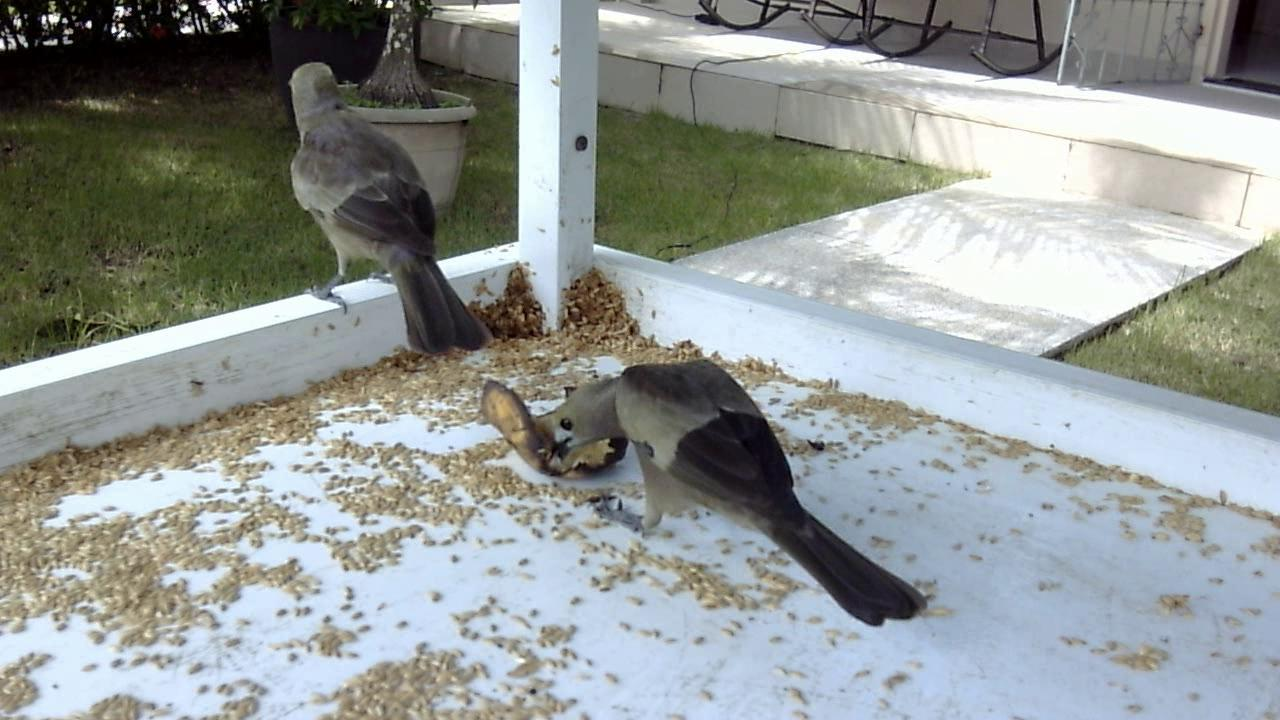sanhaco_do_coqueiro: (504, 343, 941, 649), (280, 58, 496, 367)
